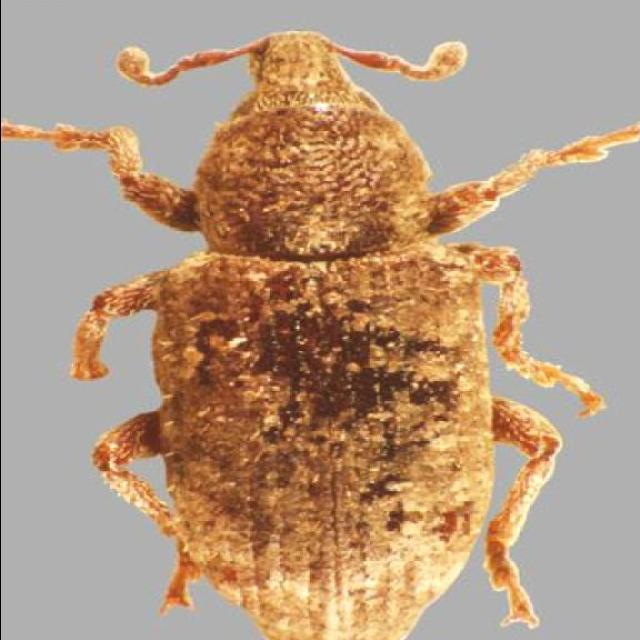ricebug: (0, 31, 640, 640)
